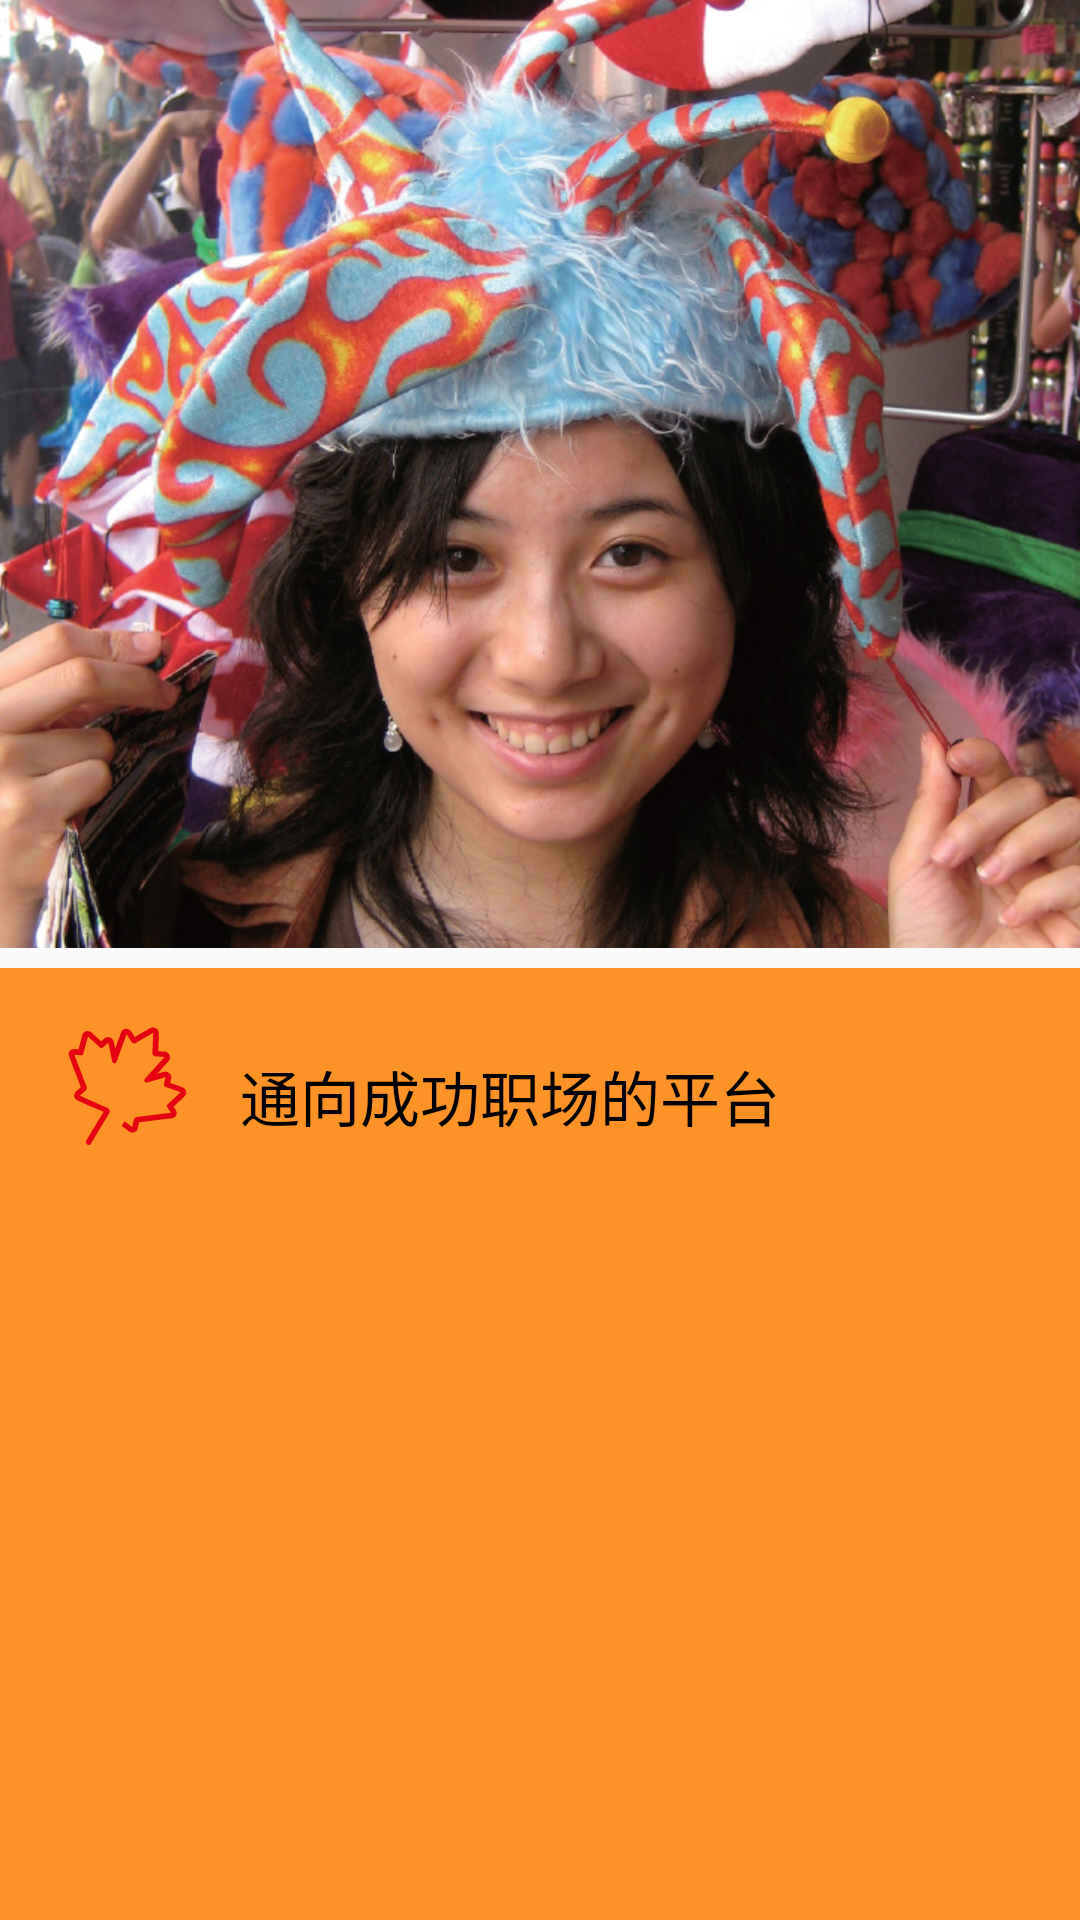

Named icons in this screenshot (1080×1920) and their centers, point (x, y):
leaf: point (127, 1086)
